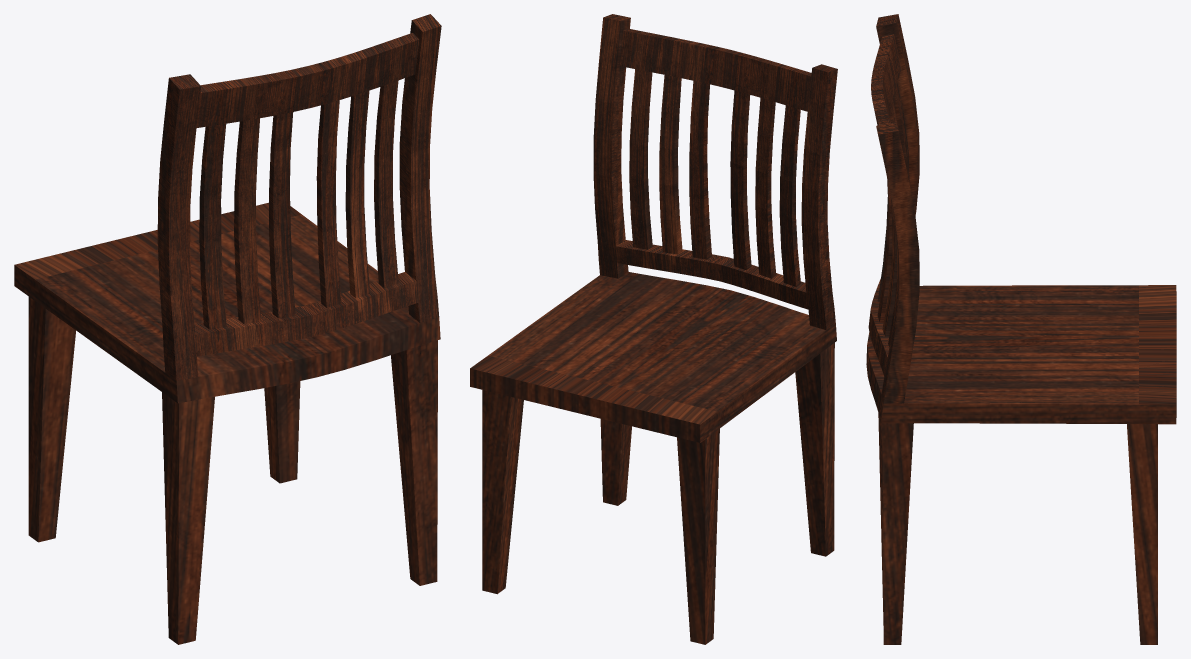
The model's file is chair.glb.
3 renders of one model, left to right at view 1: azimuth 30°, elevation 25°; view 2: azimuth 150°, elevation 25°; view 3: azimuth 270°, elevation 25°, orthographic. The views are drawn at different scales.
Parts seen in each view (by area): view 1: Cube; view 2: Cube; view 3: Cube.
Part boxes in pixels (<box>): Cube: <box>14,14,441,644</box>; Cube: <box>470,14,837,644</box>; Cube: <box>866,14,1176,644</box>.
Bounding box in the file's own units: 0.4498 × 0.9021 × 0.4926.
1 material, 1 textured.
